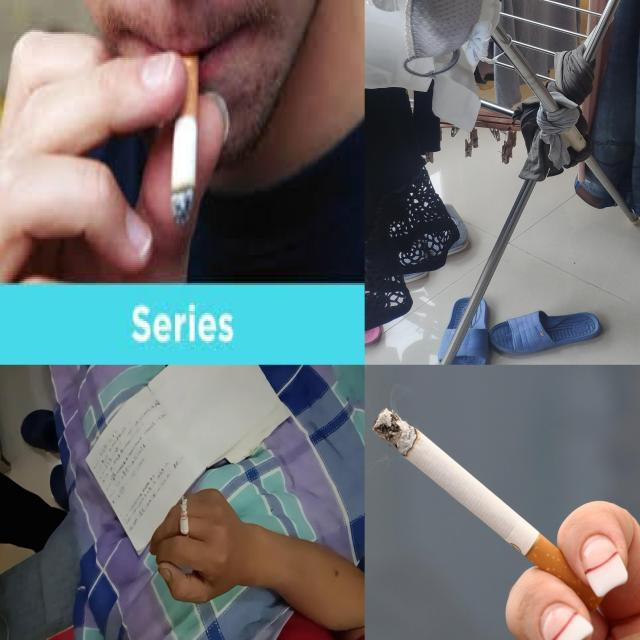smoking: (371, 407, 605, 616), (170, 55, 200, 226), (180, 496, 190, 548)
